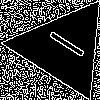I: (38, 22, 88, 60)
